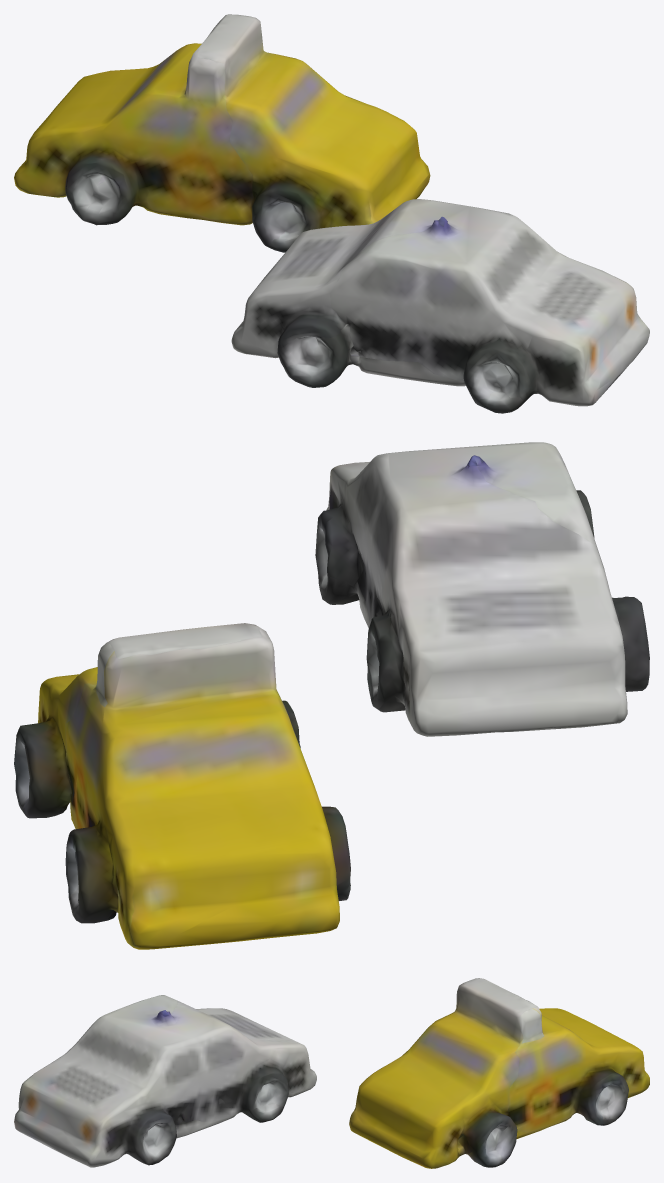
File: CITY_TAXI_POLICE_CAR-high.glb
3 views of the same model, one above another, from view 1: azimuth 30°, elevation 25°; view 2: azimuth 150°, elevation 25°; view 3: azimuth 270°, elevation 25° (orthographic). The views are drawn at different scales.
Parts seen in each view (by area): view 1: CITY_TAXI_POLICE_CAR; view 2: CITY_TAXI_POLICE_CAR; view 3: CITY_TAXI_POLICE_CAR.
Part boxes in pixels (bbox=[...]): CITY_TAXI_POLICE_CAR: bbox=[14, 14, 649, 413]; CITY_TAXI_POLICE_CAR: bbox=[14, 442, 649, 949]; CITY_TAXI_POLICE_CAR: bbox=[14, 978, 649, 1168].
Bounding box in the file's own units: 0.0566 × 0.0279 × 0.1263.
Materials: 1 (1 with a texture image).
